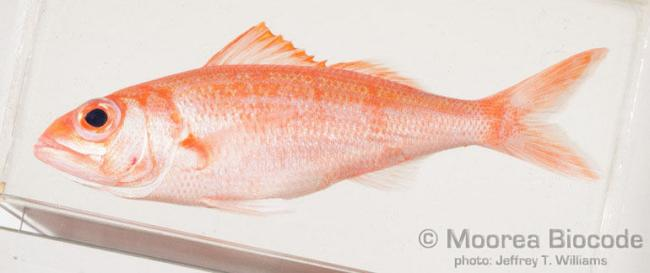fish: (32, 20, 613, 216)
